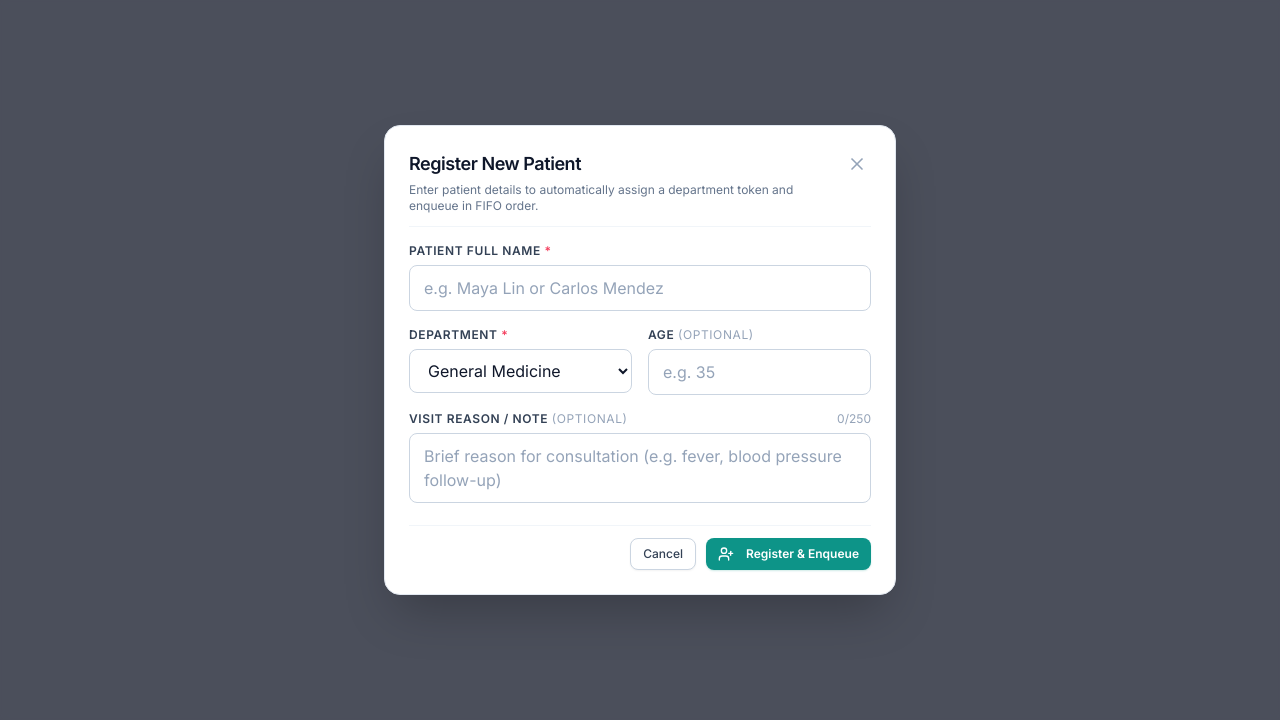
Scenario: RegisterPatientDialog Component › displays validation error when submitting with empty name
The width and height of the screenshot is (1280, 720).
Click the button "Register & Enqueue": (788, 554) [706,538,871,570]
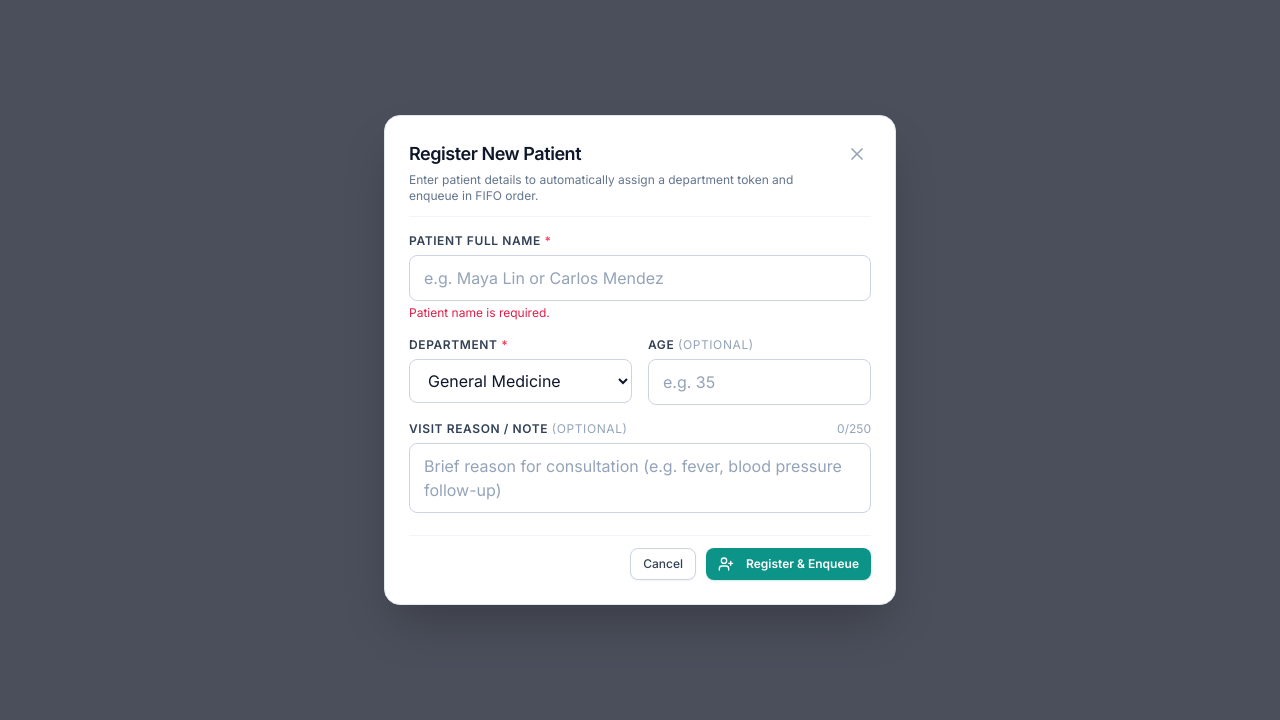
Check: the text "Patient name is required." is shown, box [409,305,550,320]
